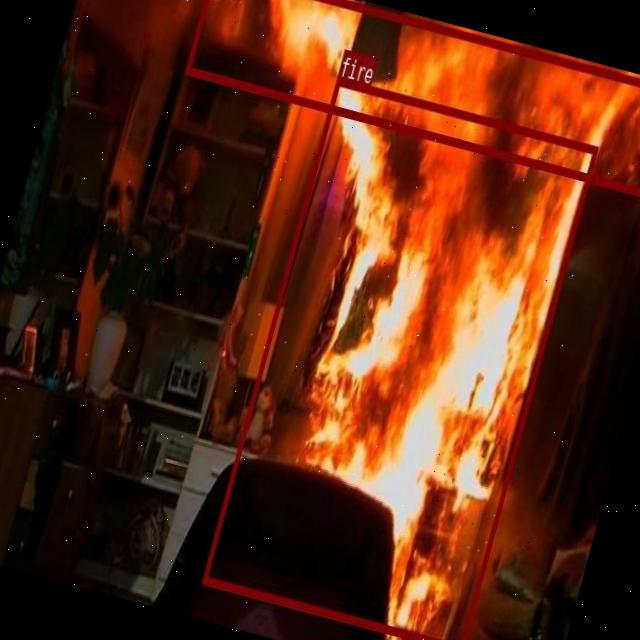fire: (201, 76, 597, 640), (184, 0, 640, 202)
